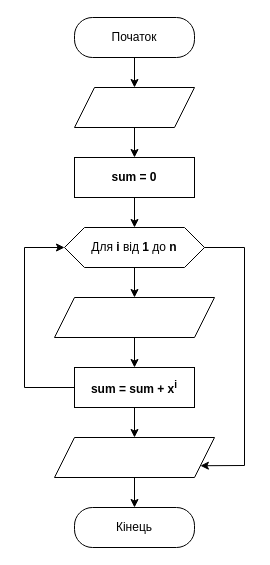
Some shapes in this 270 by 565 pixel diagram are drawn without their labels. Each missing label, with the box of its shape:
Ввести n: (74, 86, 194, 128)
Ввести x i: (54, 296, 214, 338)
Вивести sum: (54, 436, 214, 478)
